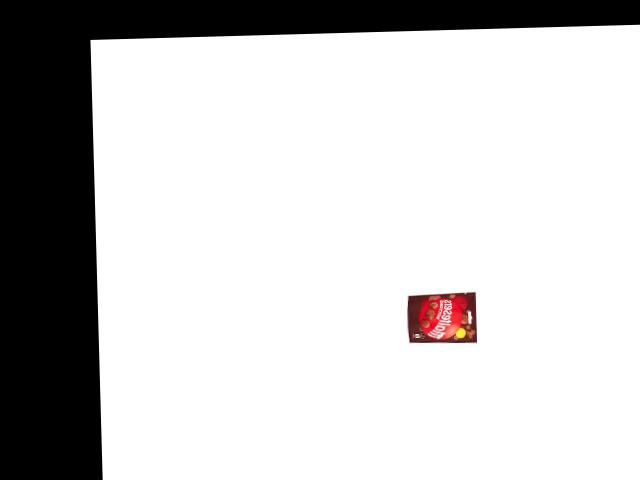chocolate: (405, 291, 478, 344)
